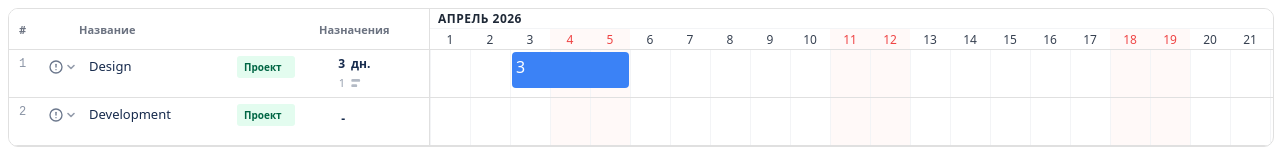
Test: ResourceTimelineChart drag interactions › updates custom renderItem duration context while resizing
The width and height of the screenshot is (1280, 164).
Expected: the text with test id "duration-item-1" reads "3", [516,56,525,78]
Press the mouse on the element with class "gantt-resourceTimeline-resizeHandleEnd" at (623, 70), box [617,52,629,88]
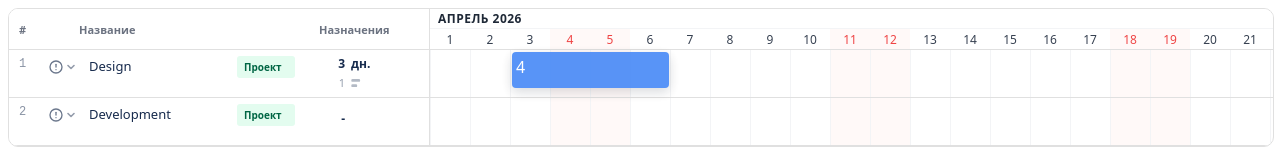
Result: the text with test id "duration-item-1" reads "4" at [516,56,525,78]
